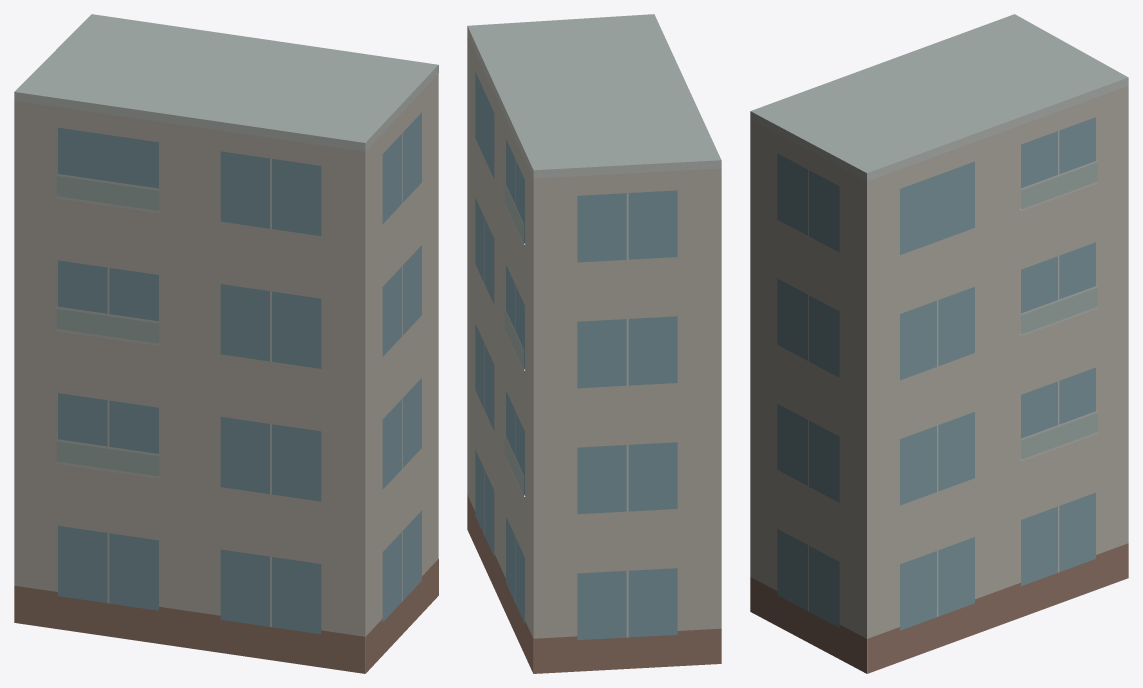
File: survey-upis-33014117.glb
3 renders of one model, left to right at view 1: azimuth 30°, elevation 25°; view 2: azimuth 150°, elevation 25°; view 3: azimuth 270°, elevation 25°, orthographic. The views are drawn at different scales.
Parts seen in each view (by area): view 1: survey-upis-33014117.tmp; view 2: survey-upis-33014117.tmp; view 3: survey-upis-33014117.tmp.
Part boxes in pixels (<box>): survey-upis-33014117.tmp: <box>14,14,438,673</box>; survey-upis-33014117.tmp: <box>467,14,721,673</box>; survey-upis-33014117.tmp: <box>750,14,1128,673</box>.
Bounding box in the file's own units: 10.14 × 14.85 × 10.18.
